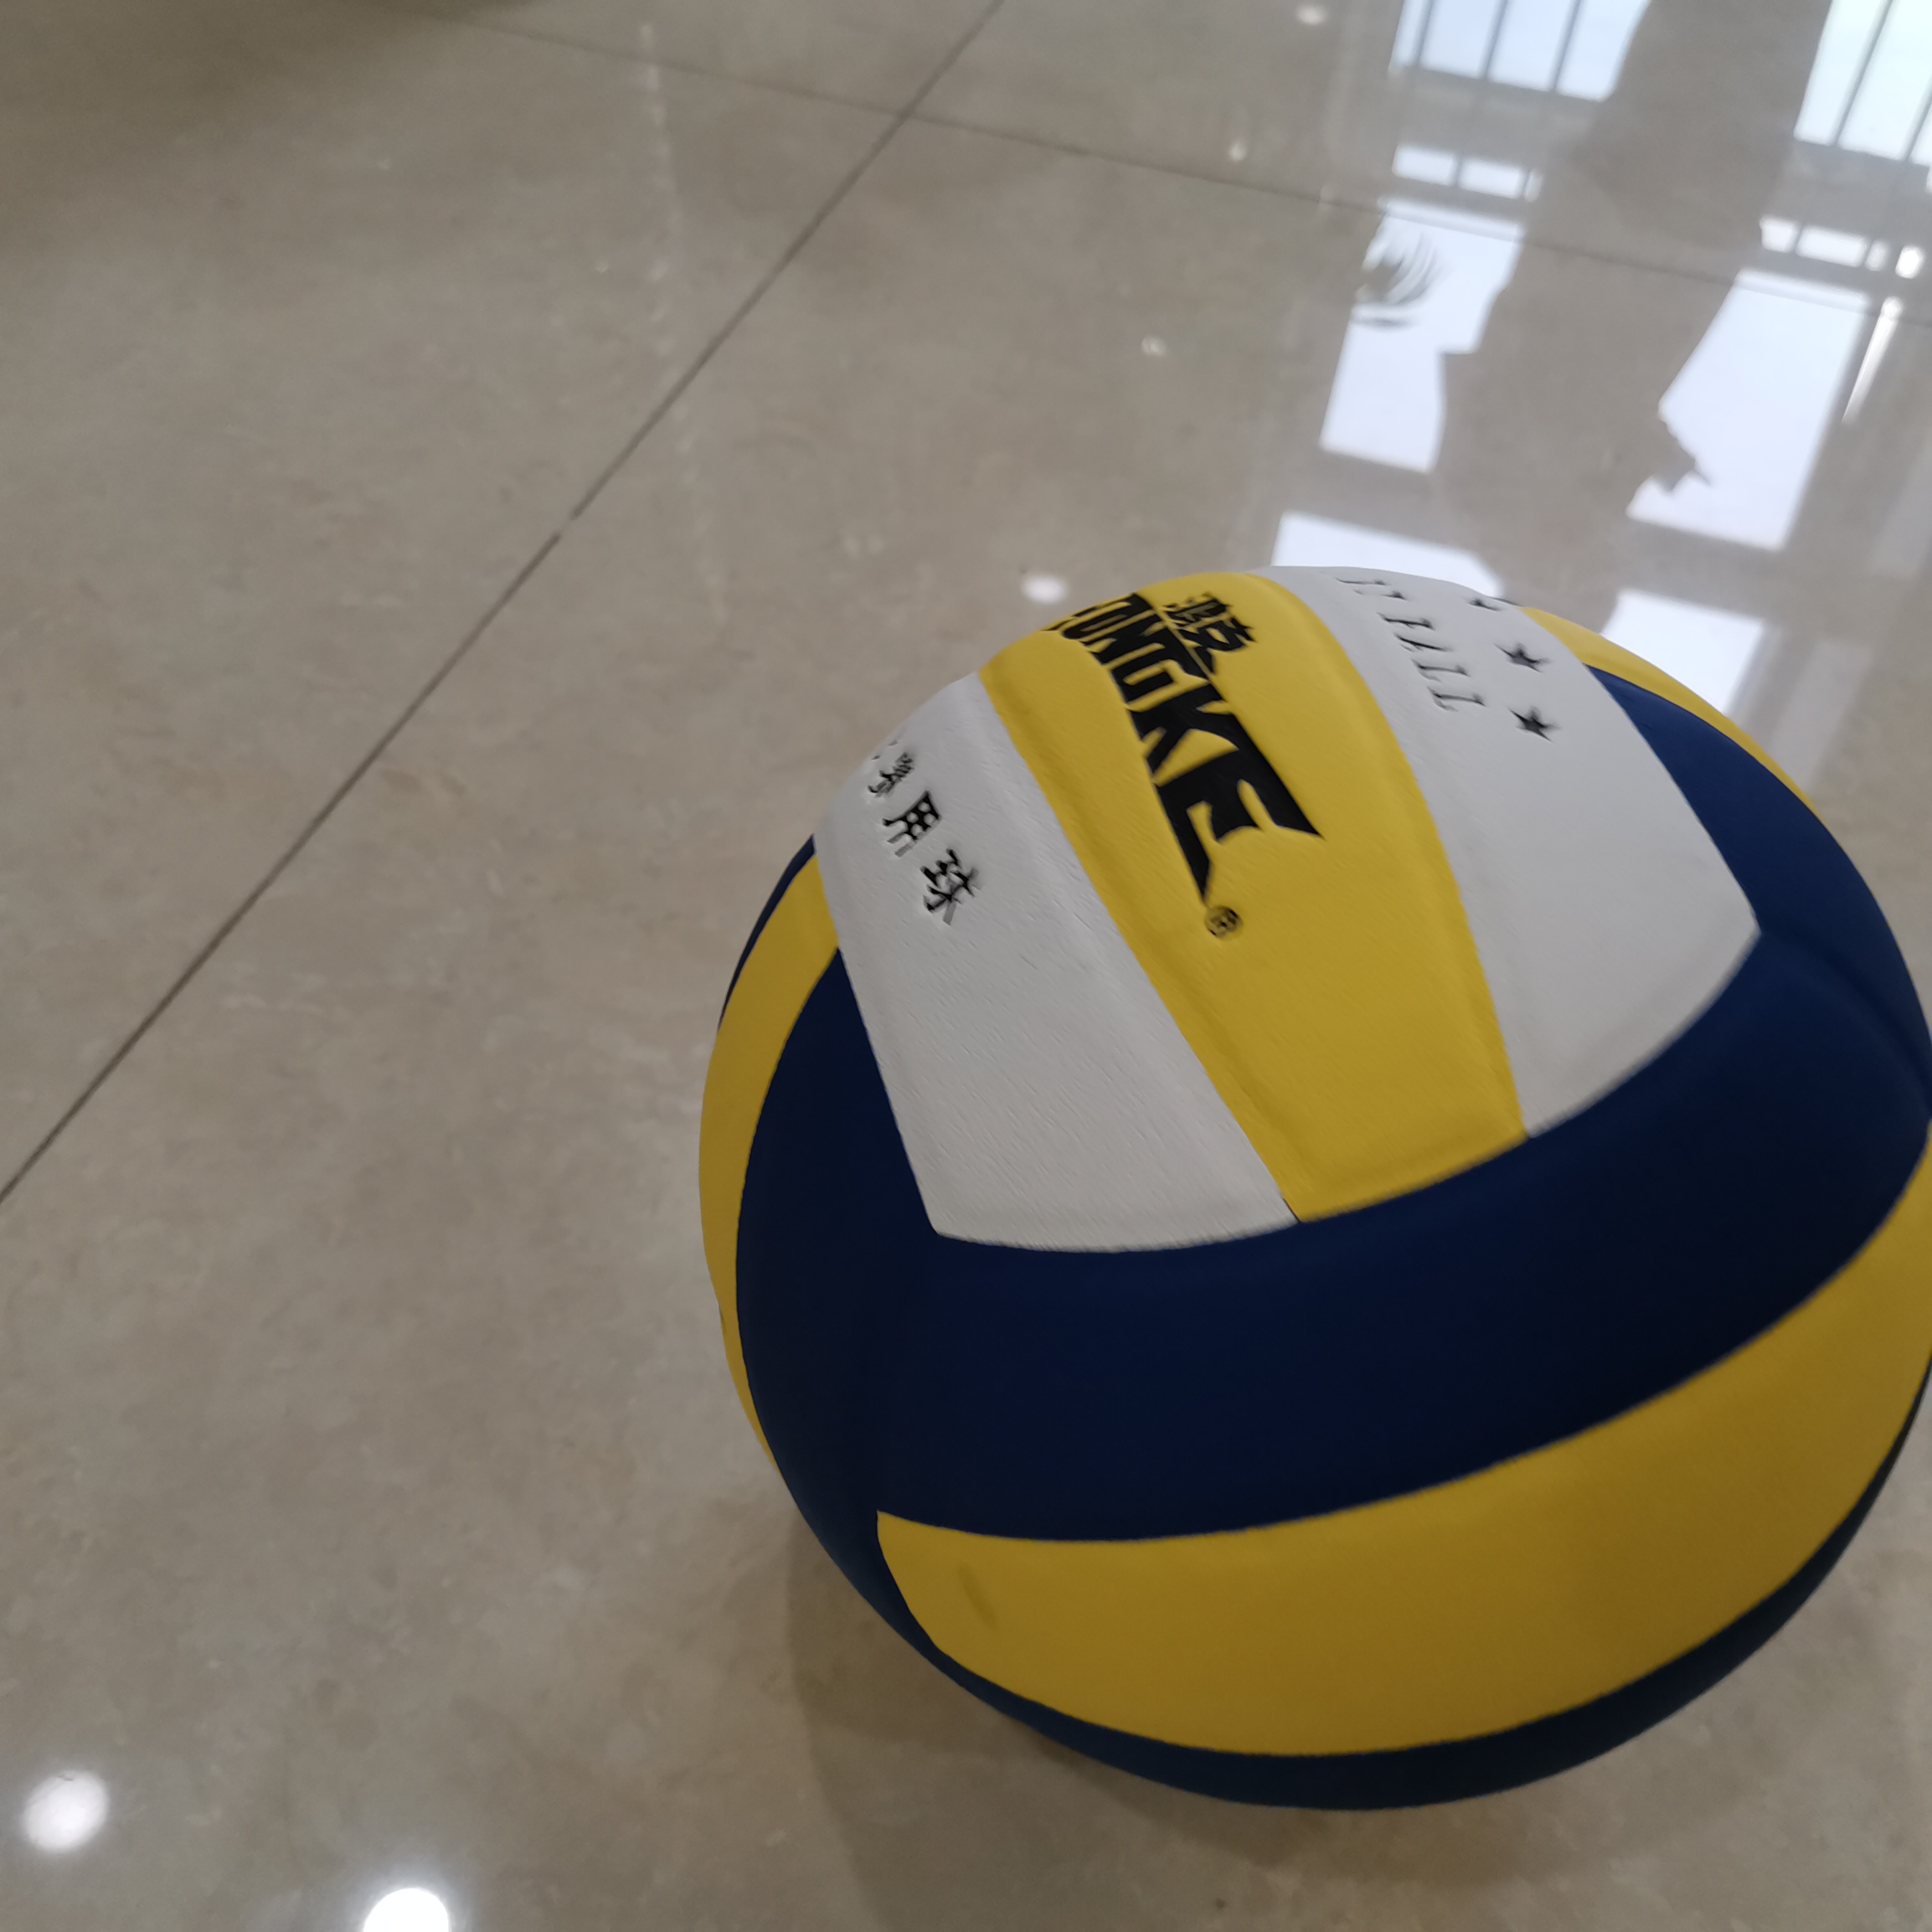volleyball: (695, 564, 1920, 1806)
